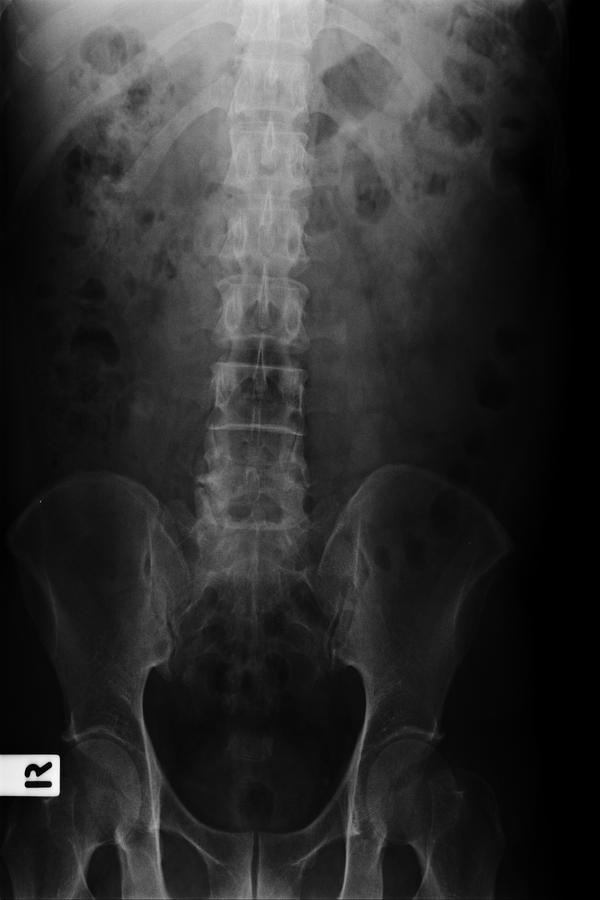not lumbar scoliosis: (196, 170, 314, 548)
